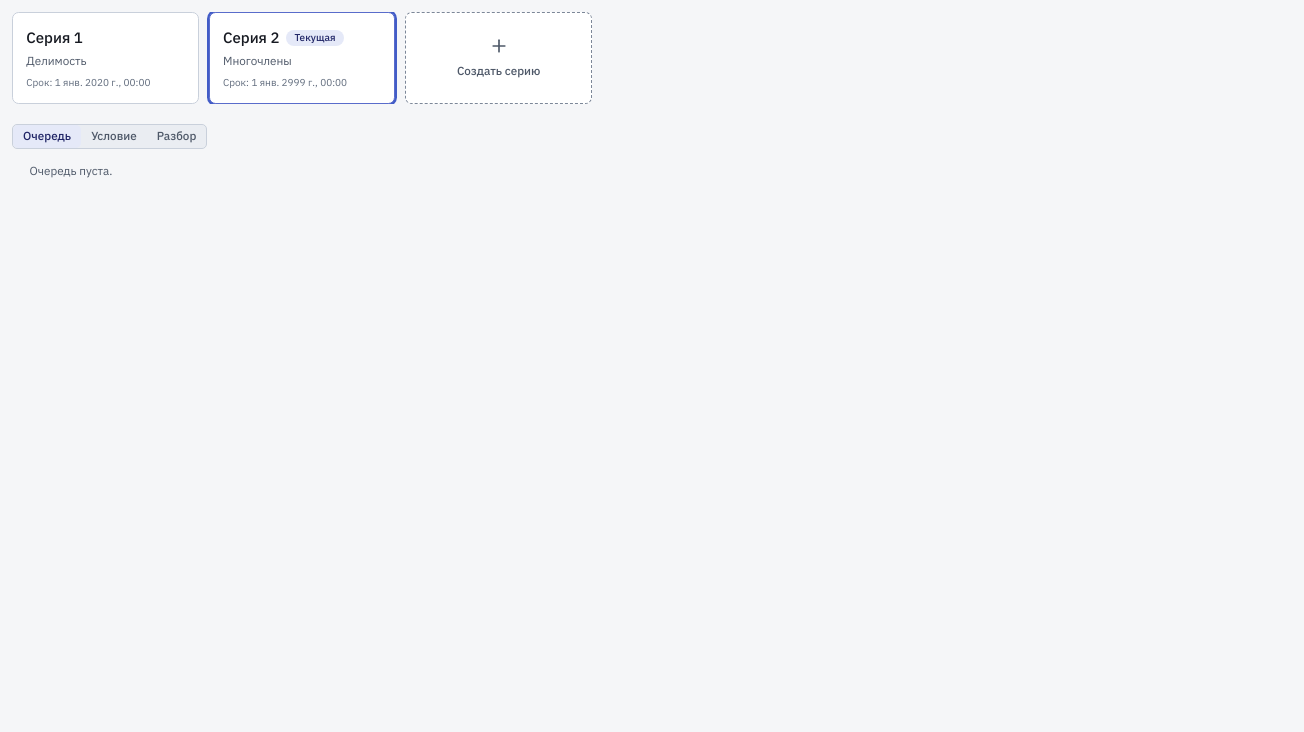
SeriesPage — teacher view › renders stat counts and the "Создать серию" card
The image size is (1304, 732).
Check: the text "Серия 2" is shown, box [223,26,280,50]
Check: the button "Создать серию" is shown, box [405,12,592,104]
Step 1. Click the tab "Разбор" → (176,137), box [147,125,206,148]
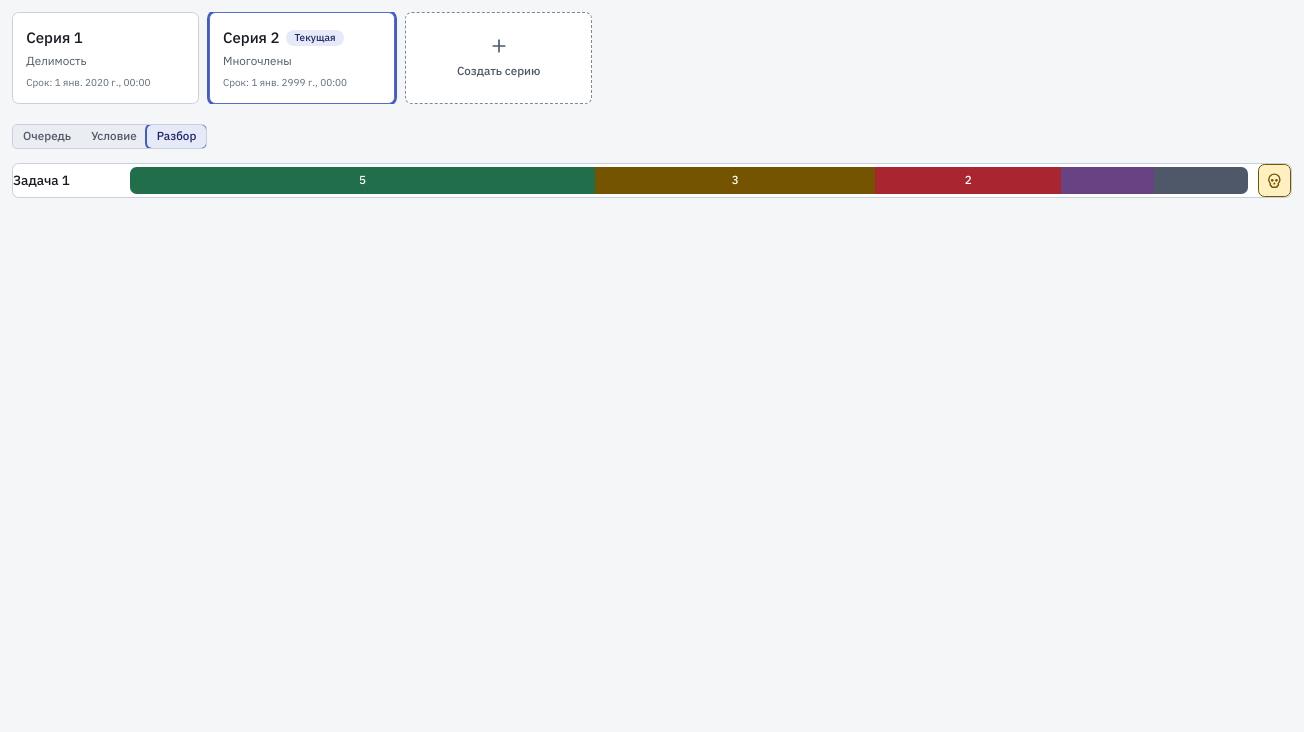
Check: the picture named "Распределение статусов по задаче Задача 1: Принято — 5" is shown, box [130,167,1248,194]
Step 2. Click the button named "Распределение статусов по задаче Задача 1: Принято — 5" → (652,180), box [12,163,1292,198]
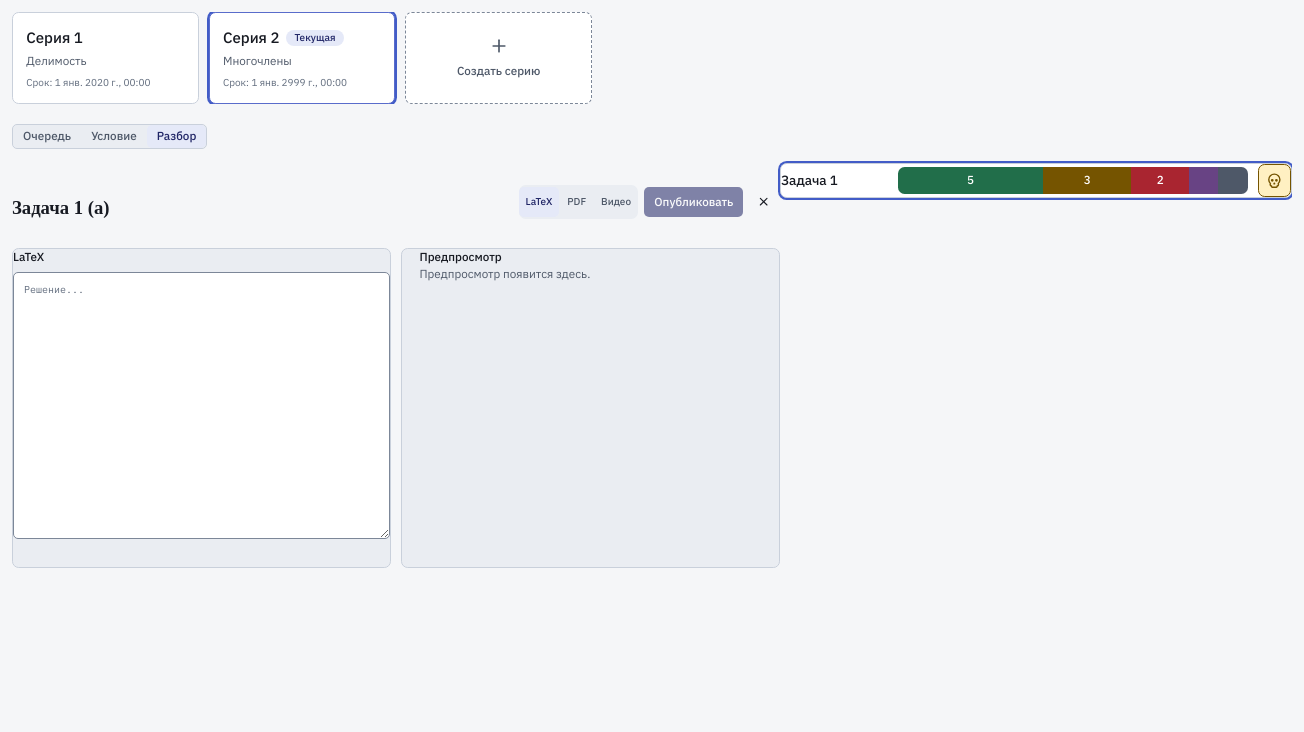
Check: the element "Задача 1 (а)" is shown, box [12,163,780,568]
Step 3. Click the tab "Серия 2" → (302,58), box [209,12,395,104]
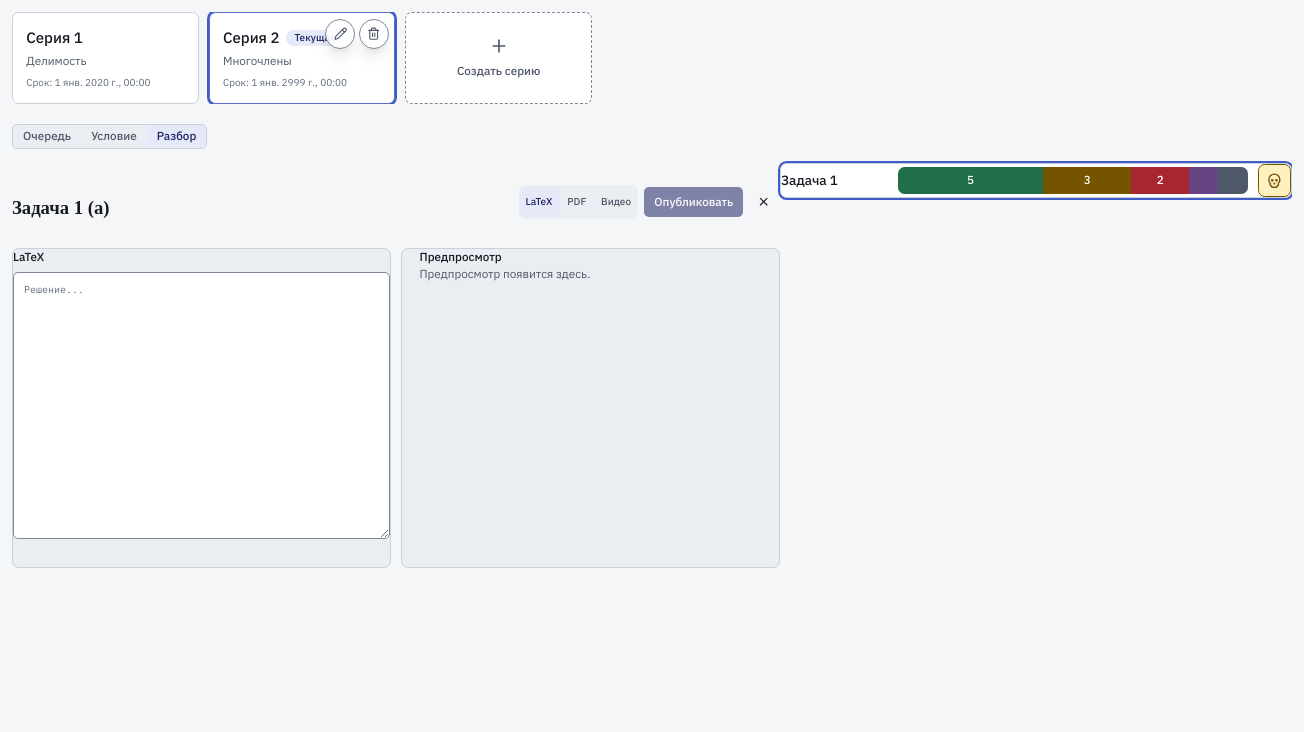
Check: the button named "Редактировать серию" is shown, box [325,19,355,49]
Check: the button named "Удалить серию" is shown, box [359,19,389,49]
